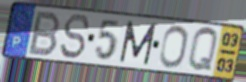5: (93, 18, 123, 61)
B: (26, 10, 63, 58)
M: (118, 20, 158, 67)
O: (157, 24, 189, 70)
Q: (187, 26, 219, 74)
S: (58, 13, 91, 61)
